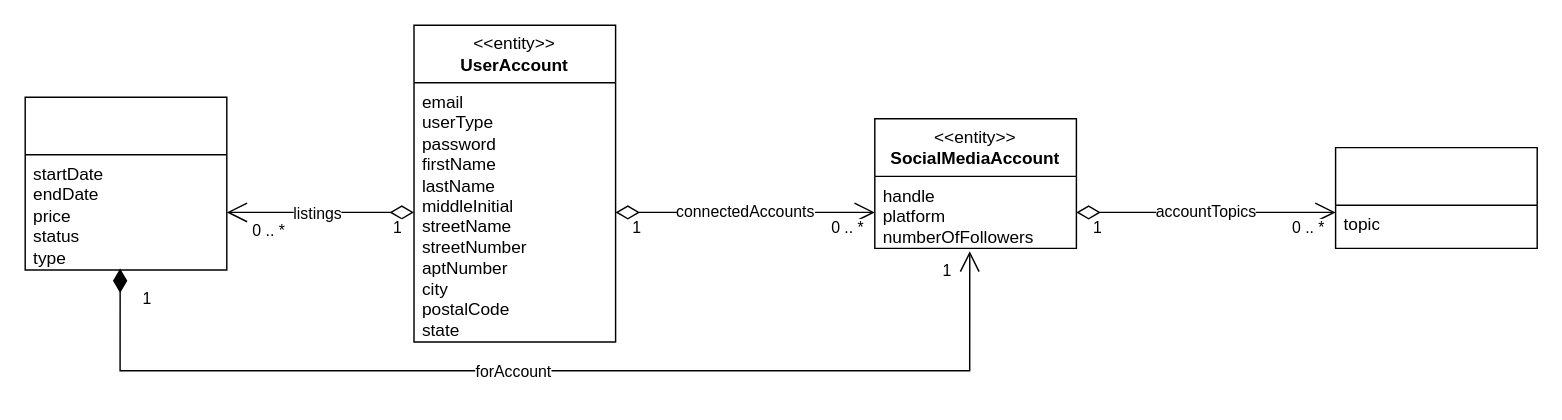
Some shapes in this 1562 by 420 pixel diagram are drawn without their labels. Each missing label, with the box of its shape:
<<entity>> Listing: (24, 96, 227, 270)
<<value object>> SocialMediaAccount: (1334, 146, 1537, 248)
